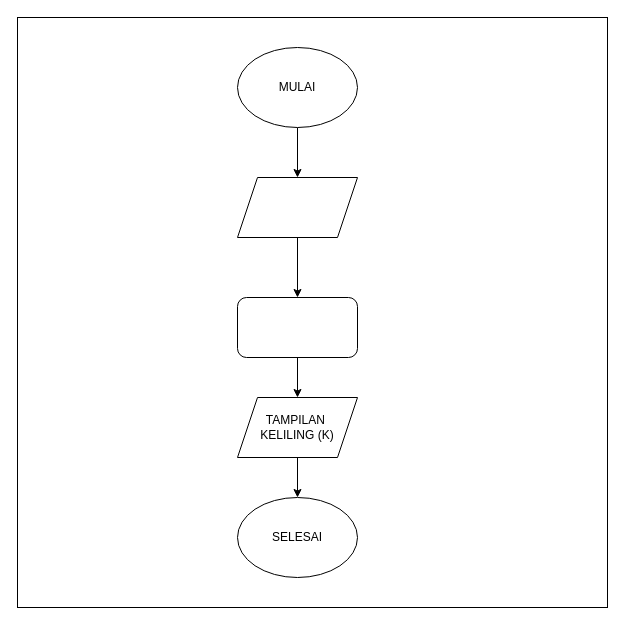
Some shapes in this 625 by 625 pixel diagram are drawn without their labels. The shapes that lost their labels are listed below. From the top down, each one's centre as x and y in pixels, then its label:
point 297,207: INPUT SISI
point 297,327: K = 4 X S
